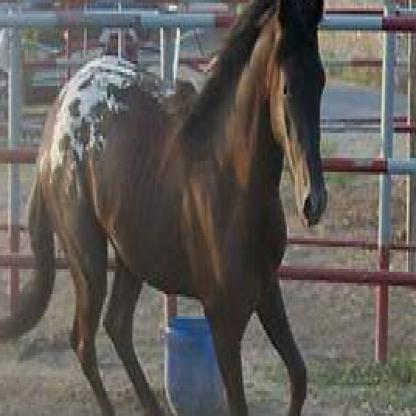horse: (2, 0, 332, 413)
